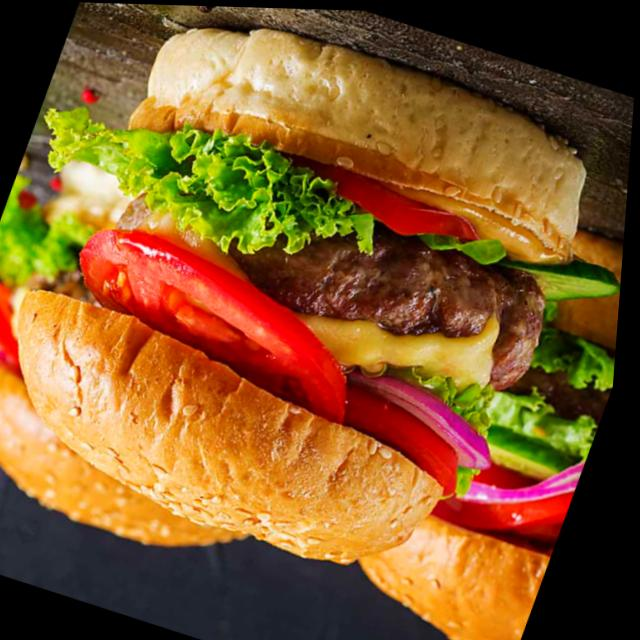burger: (0, 0, 640, 620), (0, 140, 370, 589), (323, 180, 630, 640)
